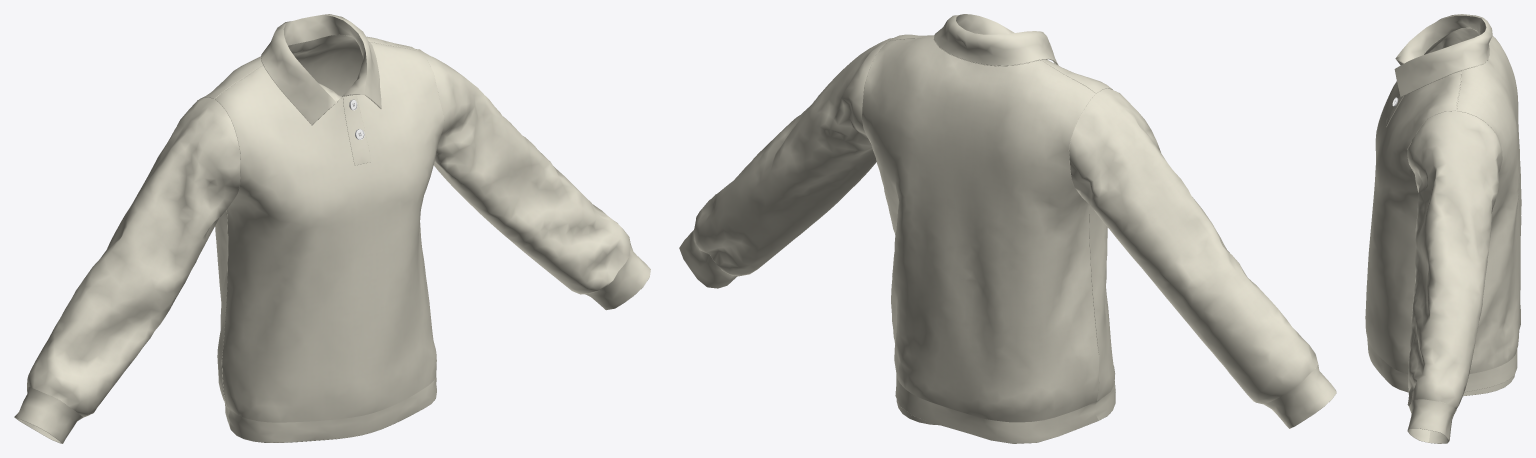
Rendered from FLG_11_05_5.fbx.
3 views of the same model, side by side, from view 1: azimuth 30°, elevation 25°; view 2: azimuth 150°, elevation 25°; view 3: azimuth 270°, elevation 25° (orthographic). The views are drawn at different scales.
Visible parts, largest first — view 1: FLG_11_05_5; view 2: FLG_11_05_5; view 3: FLG_11_05_5.
Part boxes in pixels (left/top/right/bottom): FLG_11_05_5: left=14, top=14, right=650, bottom=443; FLG_11_05_5: left=679, top=14, right=1336, bottom=443; FLG_11_05_5: left=1365, top=14, right=1521, bottom=443.
Size of the model in its own units: 115 by 66.14 by 27.9.
